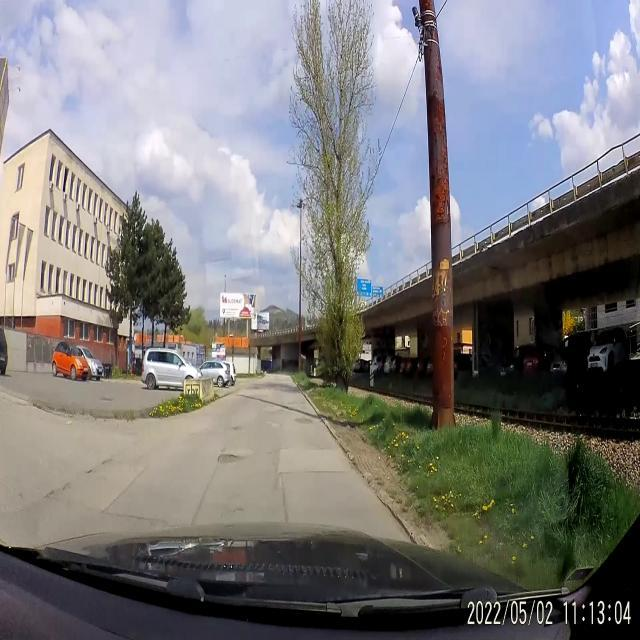Pothole: (213, 447, 246, 478), (83, 452, 111, 483), (42, 478, 74, 504), (214, 502, 247, 518), (290, 409, 314, 429), (227, 422, 250, 442)
